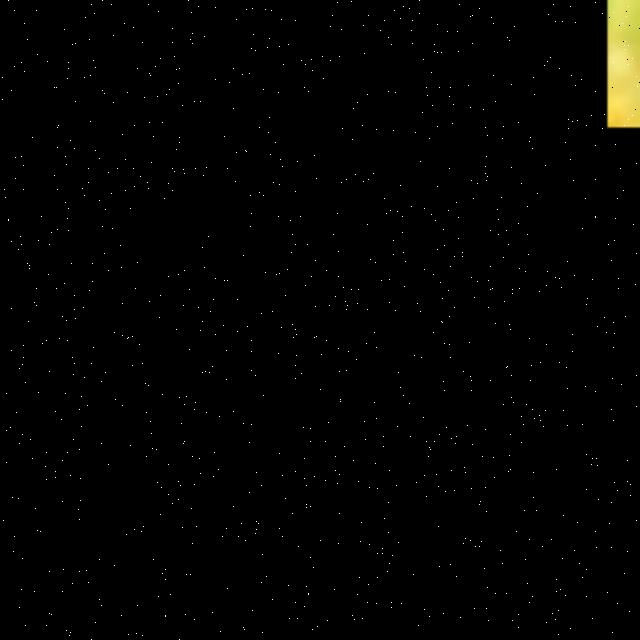Corn: (0, 0, 607, 640), (202, 127, 640, 640)
